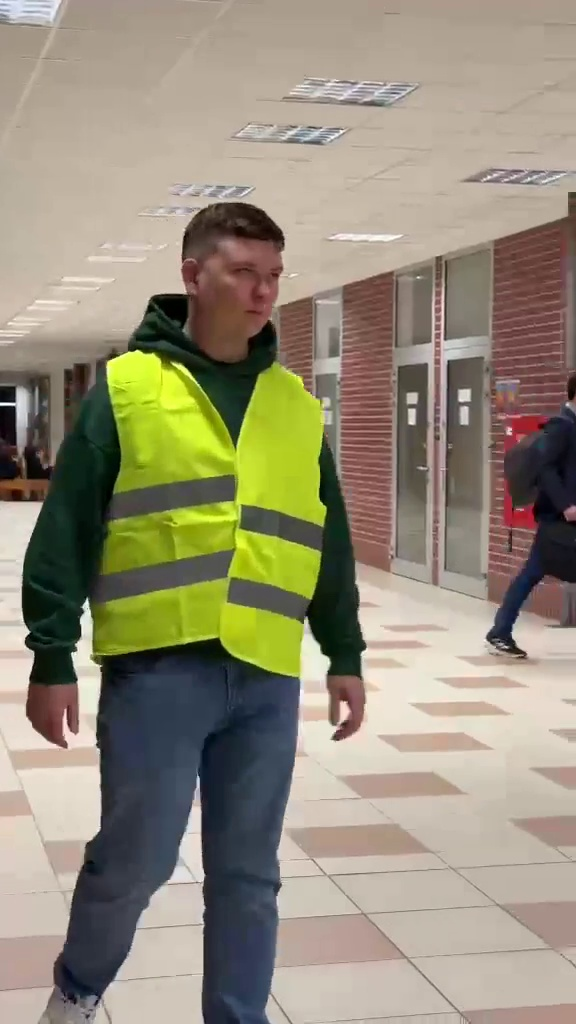no vest: (480, 367, 576, 667)
vest: (30, 191, 356, 975)
